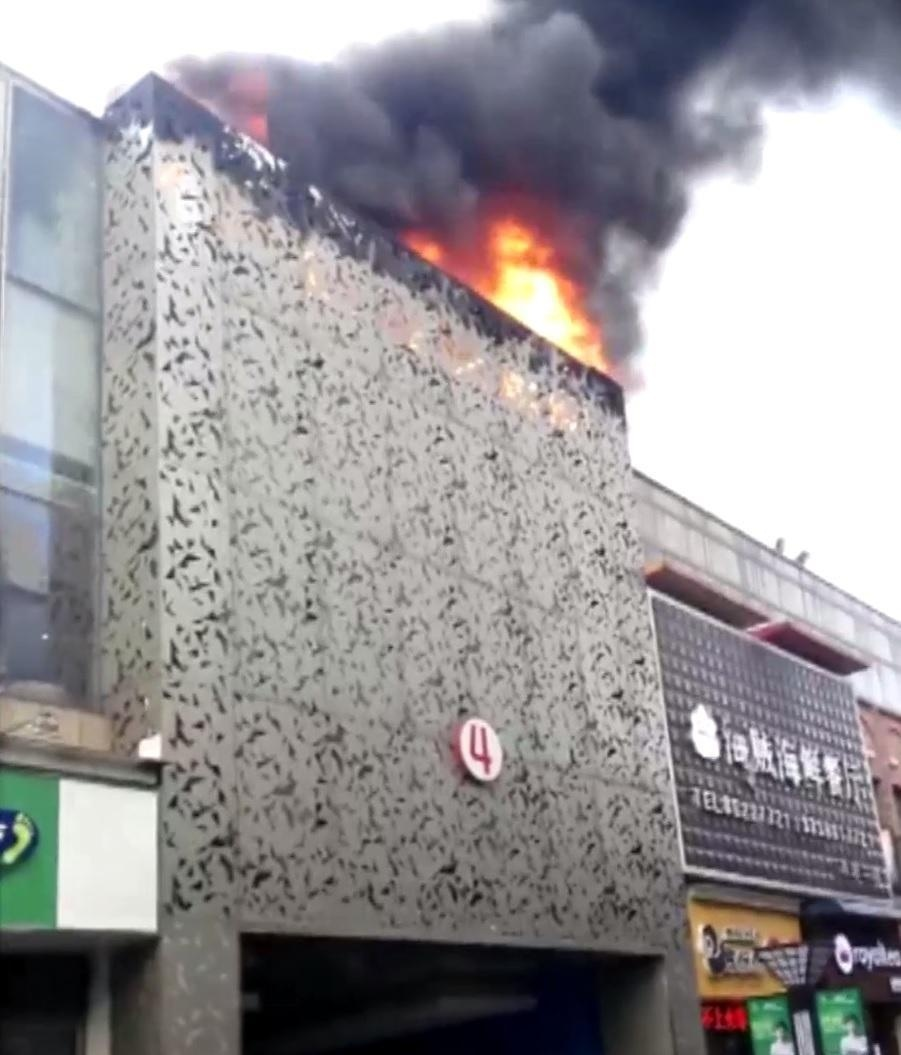fire: (478, 227, 613, 368)
